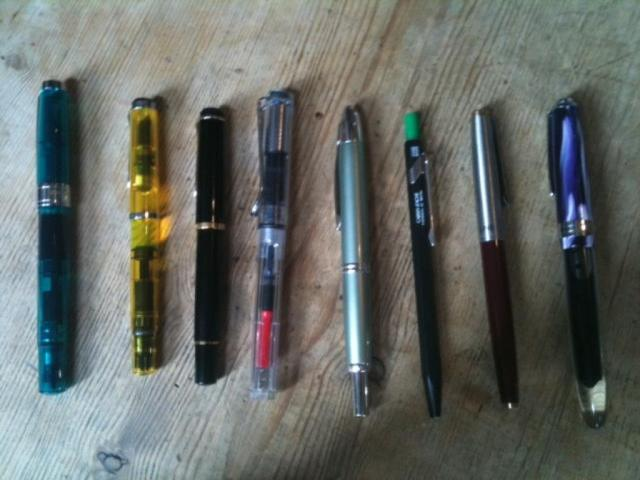PEN: (535, 71, 640, 442), (447, 91, 541, 444), (15, 74, 95, 408), (103, 91, 181, 387), (395, 102, 464, 432), (319, 97, 384, 433), (247, 84, 309, 410), (181, 104, 242, 394)
